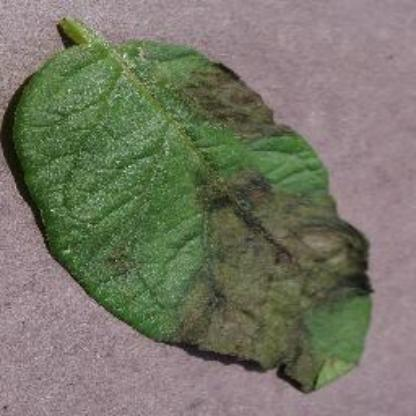Late-Blight: (7, 12, 382, 392)
